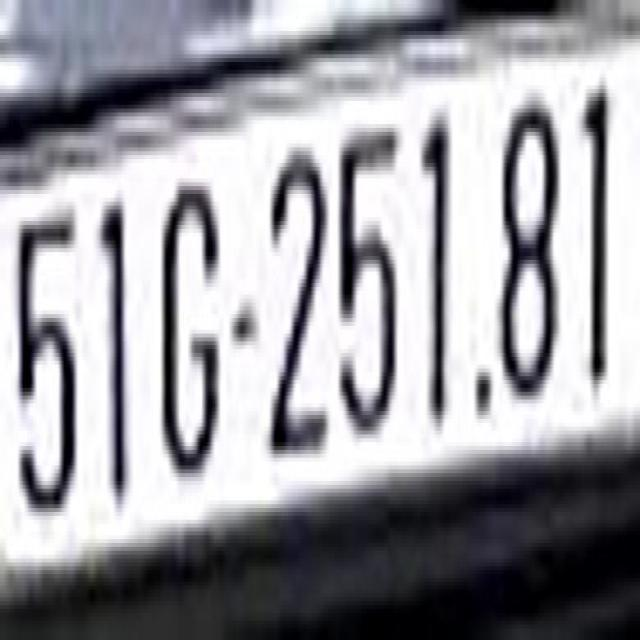1: (418, 81, 454, 438), (99, 178, 132, 512), (580, 78, 616, 368)
2: (267, 143, 330, 454)
5: (20, 186, 78, 539)
8: (506, 66, 558, 419)
G: (160, 147, 224, 489)
